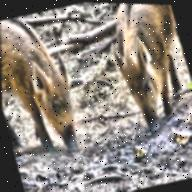boar: (0, 5, 104, 181), (83, 2, 192, 158)
